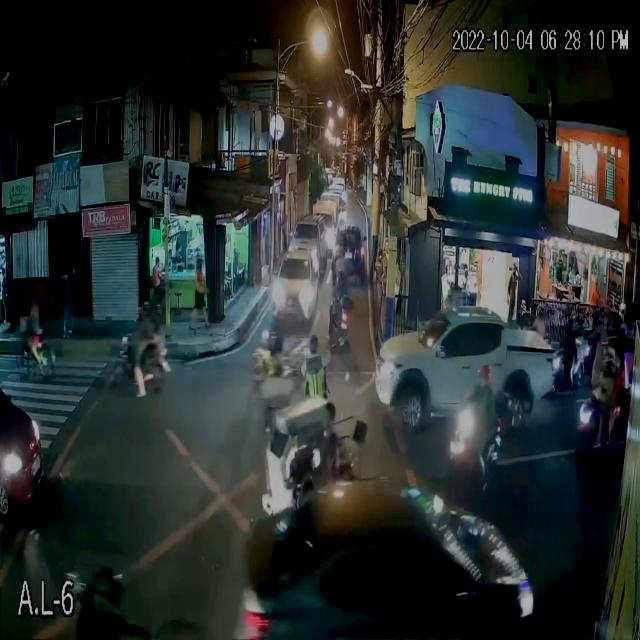Full-Faced: (478, 360, 493, 394), (137, 300, 153, 318)
